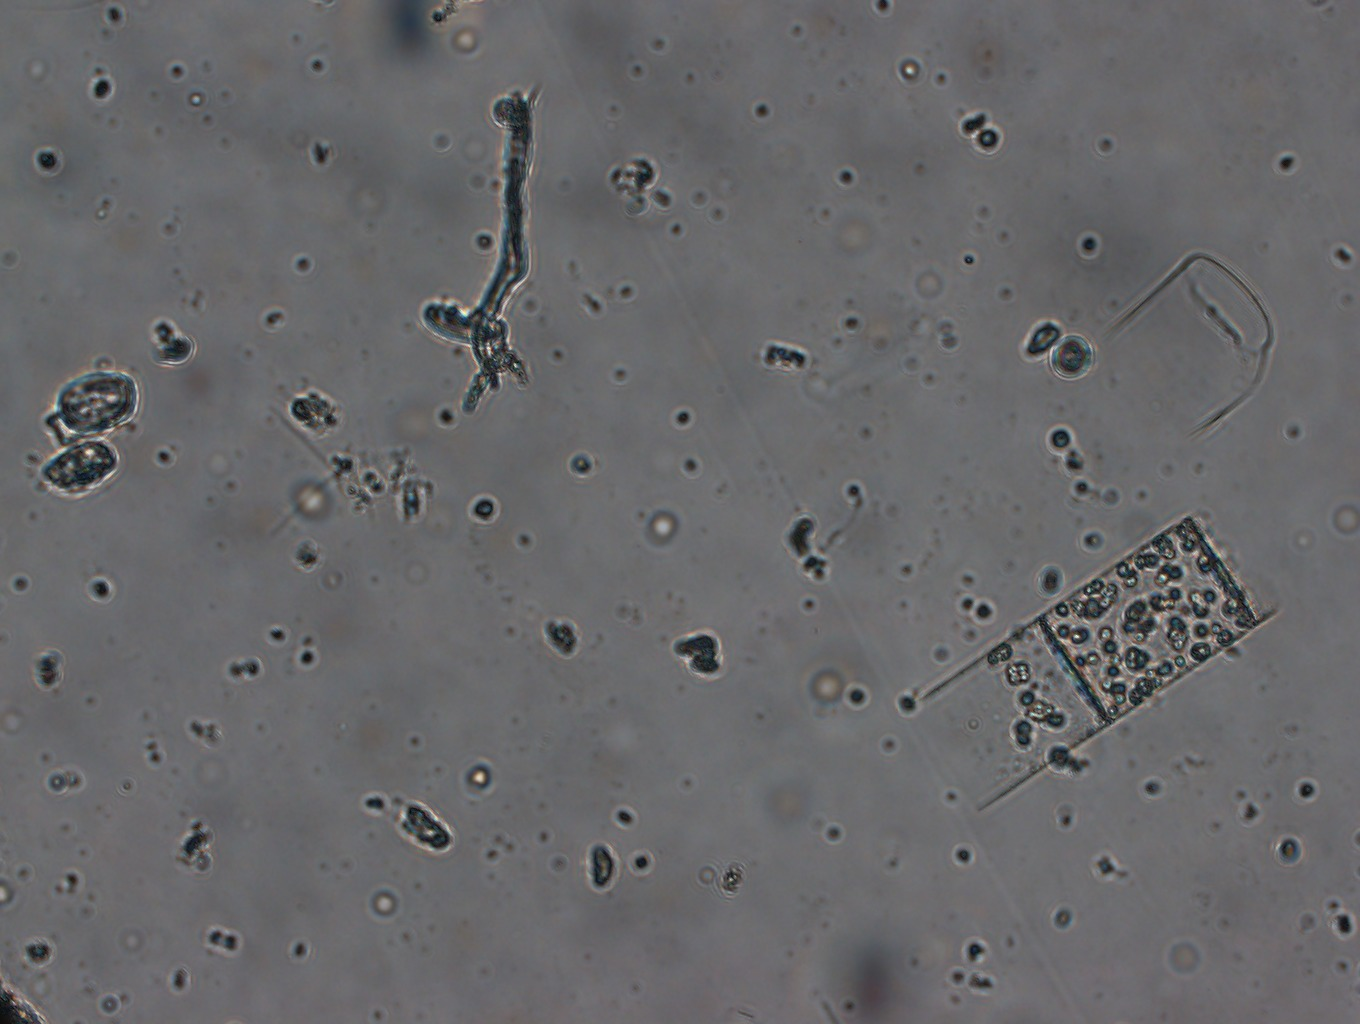guinardia flaccida: (888, 503, 1280, 817)
